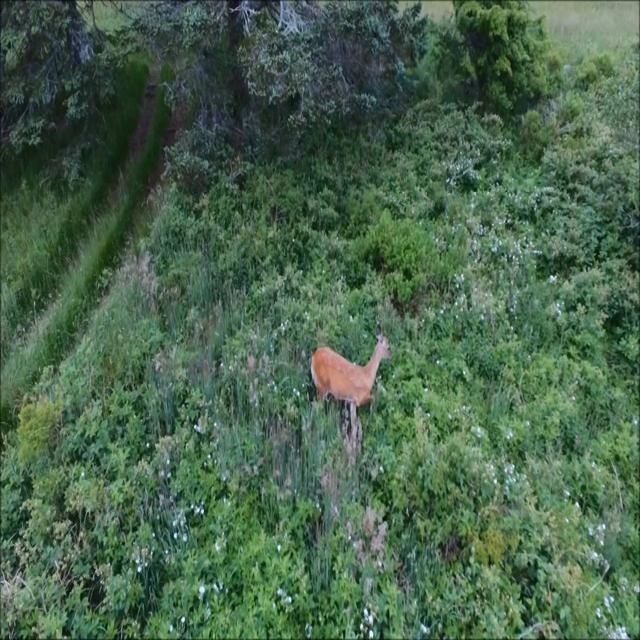deer: (267, 304, 429, 455)
